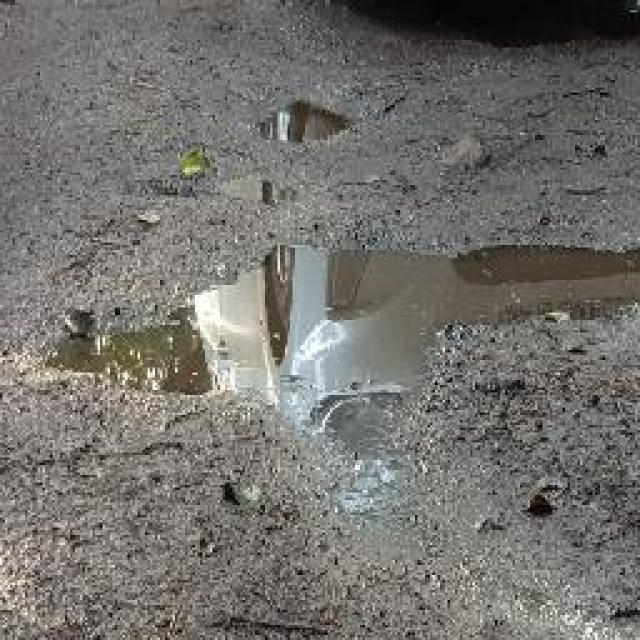puddle: (32, 246, 640, 452), (252, 98, 351, 152)
